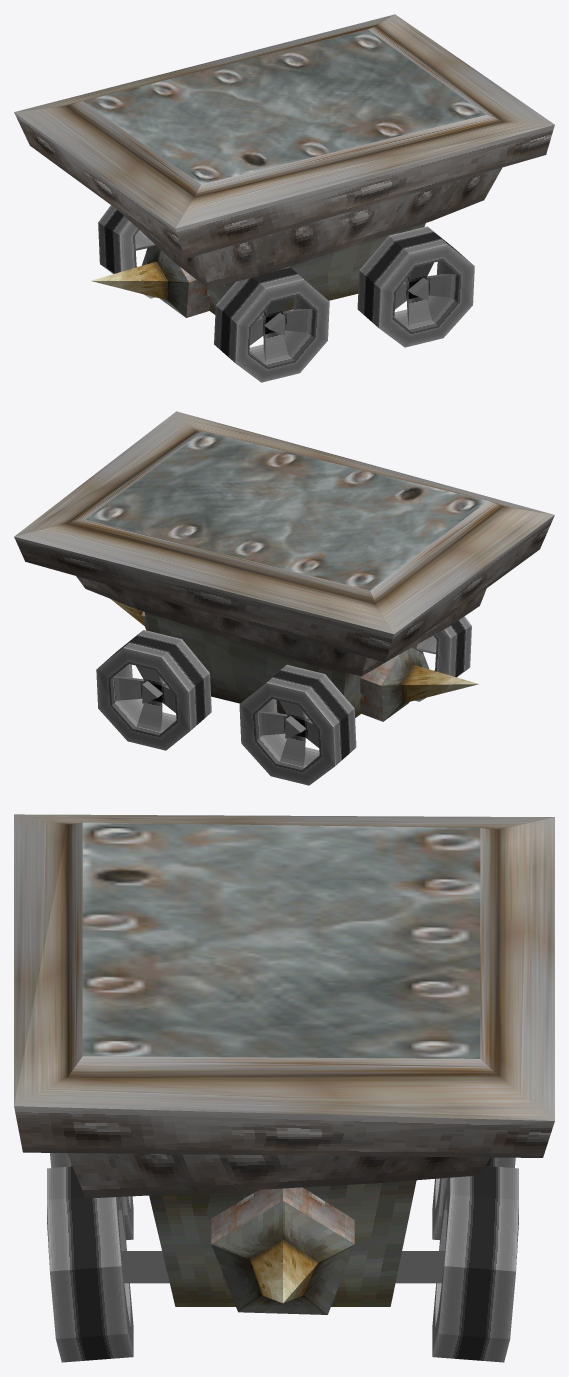
The model's file is minecartsteel-lod1.glb.
3 renders of one model, top to bottom at view 1: azimuth 30°, elevation 25°; view 2: azimuth 150°, elevation 25°; view 3: azimuth 270°, elevation 25°, orthographic. The views are drawn at different scales.
Parts seen in each view (by area): view 1: minecartsteel-lod1; view 2: minecartsteel-lod1; view 3: minecartsteel-lod1.
Boxes of the visible parts, box(x1,y1,x2,y2) form: minecartsteel-lod1: box(14, 14, 554, 382); minecartsteel-lod1: box(14, 411, 554, 785); minecartsteel-lod1: box(14, 814, 554, 1362).
Size of the model in its own units: 4.7 by 2.36 by 3.34.
10 materials, 10 textured.
